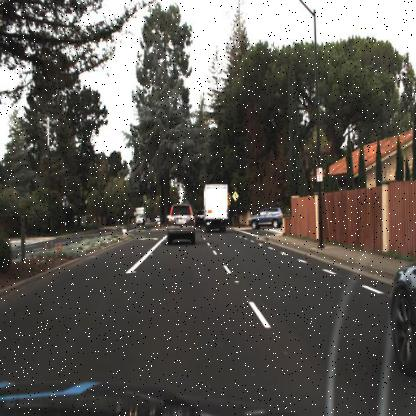car: (380, 233, 414, 387), (164, 195, 200, 252), (201, 181, 234, 235), (245, 204, 286, 232), (249, 204, 282, 230), (133, 203, 147, 228), (155, 215, 162, 222)
truck: (203, 180, 229, 232), (135, 206, 144, 225)
